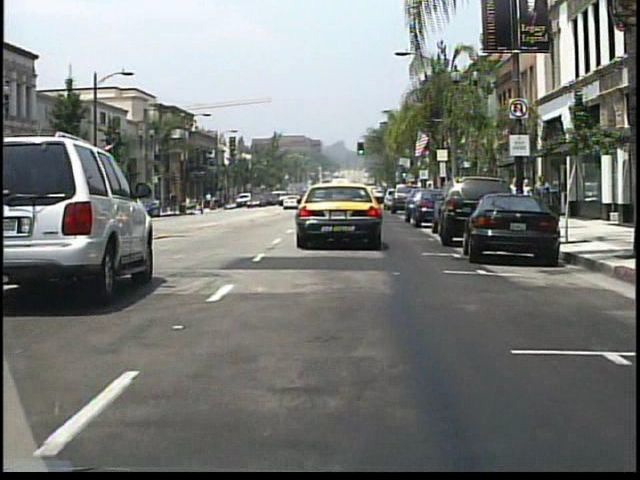person: (532, 171, 552, 224), (519, 178, 533, 216), (216, 194, 224, 211)
